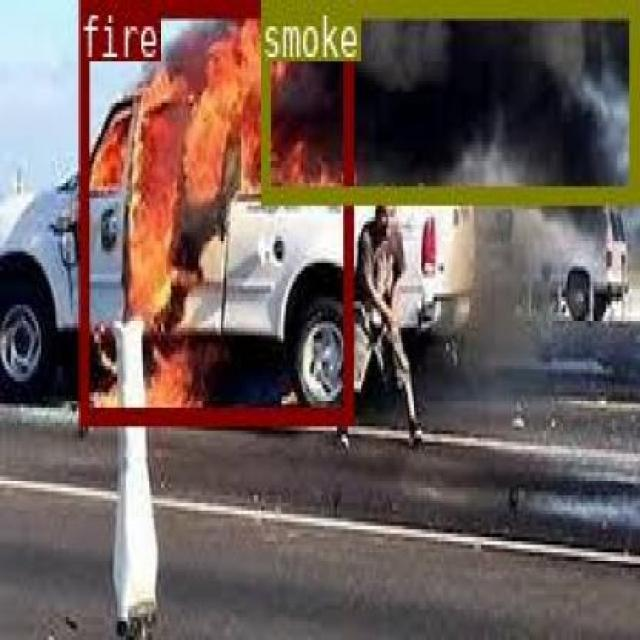Fire: (76, 0, 352, 423)
Smoke: (258, 0, 635, 198)
